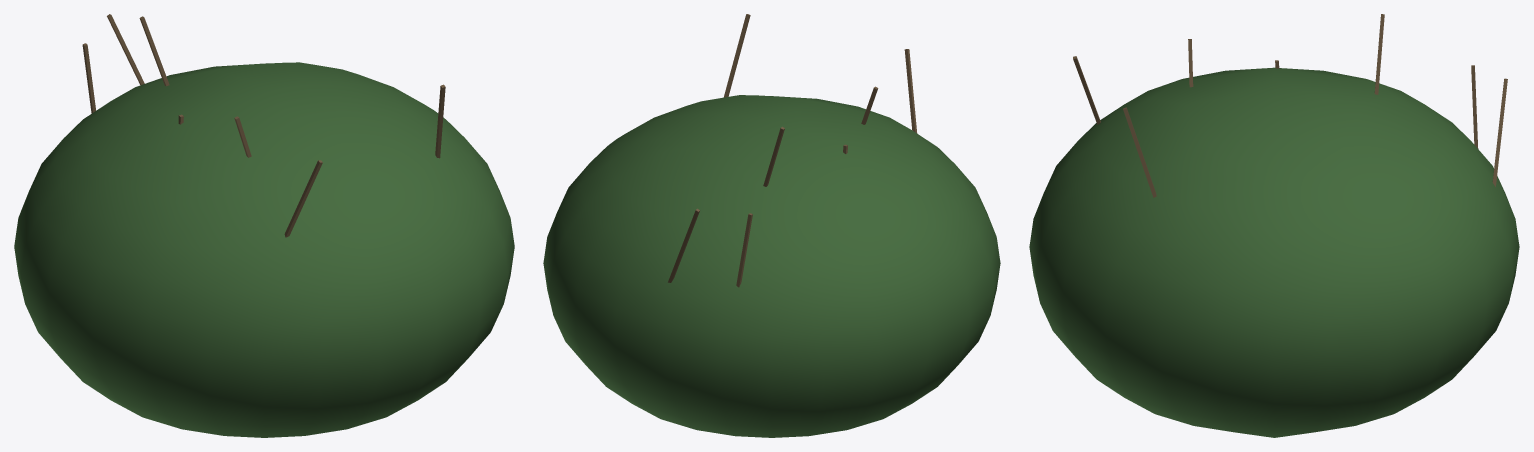
Rendered from f25-bramble-scrub.glb.
The picture shows the model from 3 angles, left to right: view 1: azimuth 30°, elevation 25°; view 2: azimuth 150°, elevation 25°; view 3: azimuth 270°, elevation 25°; orthographic projection. The views are drawn at different scales.
Parts seen in each view (by area): view 1: part0, part1; view 2: part0, part1; view 3: part0, part1.
Part boxes in pixels (x1,y1,x2,y2): part0: (14, 62, 514, 437); part1: (82, 14, 445, 237); part0: (543, 95, 1000, 437); part1: (668, 14, 917, 287); part0: (1029, 67, 1519, 437); part1: (1073, 14, 1507, 197).
Bounding box in the file's own units: 2000 × 1623 × 1998.
